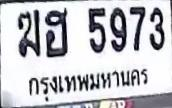3: (148, 6, 164, 50)
5: (87, 7, 105, 52)
7: (129, 6, 145, 50)
9: (109, 6, 126, 51)
A06: (16, 9, 40, 57)
A44: (44, 8, 67, 57)
BKK: (26, 63, 151, 104)
